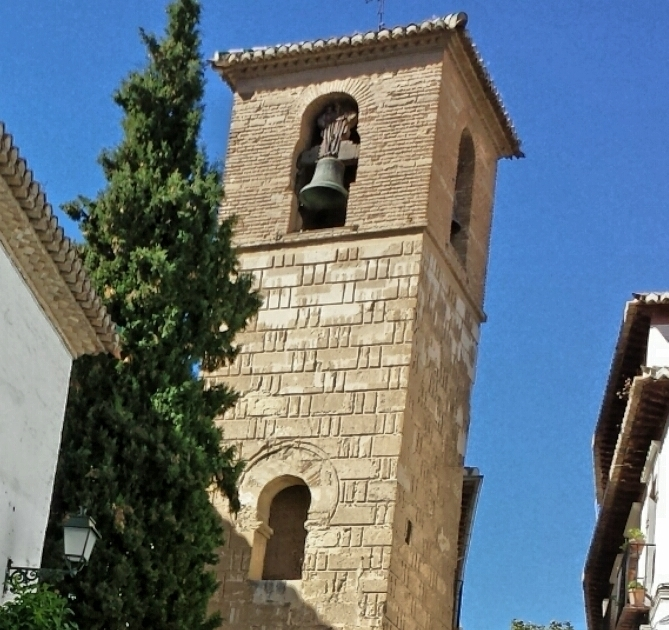arco-herradura: (235, 436, 344, 539)
